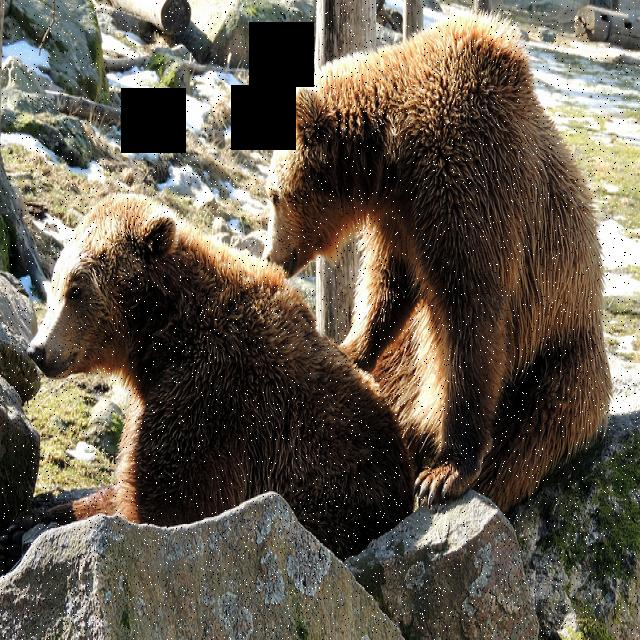Bear: (257, 12, 616, 508), (19, 180, 411, 568)
